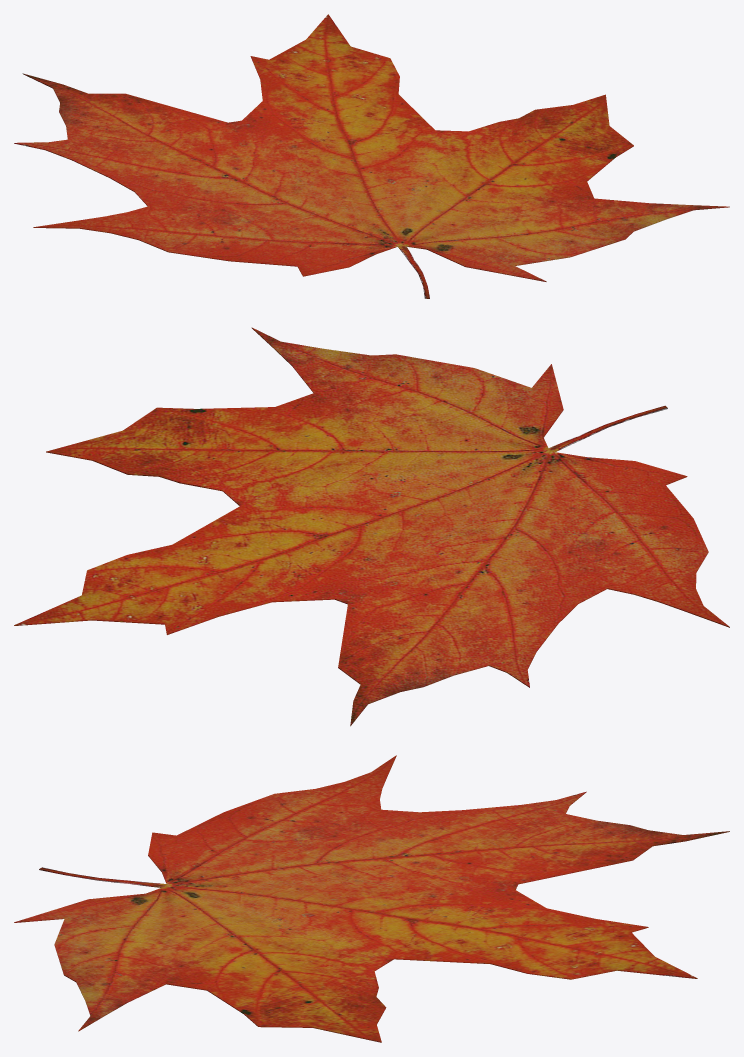
Rendered from leaf.fbx.
3 renders of one model, top to bottom at view 1: azimuth 30°, elevation 25°; view 2: azimuth 150°, elevation 25°; view 3: azimuth 270°, elevation 25°, orthographic. The views are drawn at different scales.
Parts seen in each view (by area): view 1: leaf; view 2: leaf; view 3: leaf.
Part boxes in pixels (<box>): leaf: <box>14,14,729,298</box>; leaf: <box>14,327,729,726</box>; leaf: <box>14,755,729,1042</box>.
Bounding box in the file's own units: 465 × 0.5595 × 490.
